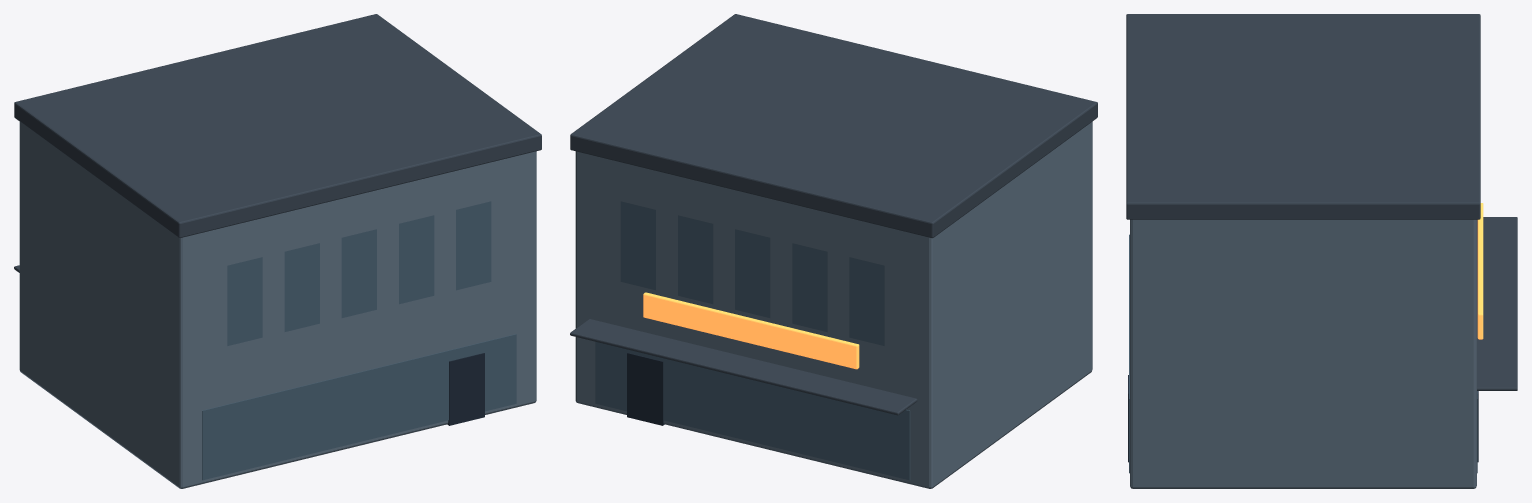
File: bld_shop_b.glb
3 views of the same model, side by side, from view 1: azimuth 30°, elevation 25°; view 2: azimuth 150°, elevation 25°; view 3: azimuth 270°, elevation 25° (orthographic). The views are drawn at different scales.
Visible parts, largest first — view 1: Shell, Parapet, Storefront, Windows_B, Door; view 2: Shell, Parapet, Storefront, Windows, Awning, Sign, Door; view 3: Shell, Parapet, Awning, Sign.
Part boxes in pixels (bbox=[...]): Shell: bbox=[19, 122, 536, 488]; Parapet: bbox=[14, 14, 541, 237]; Storefront: bbox=[202, 334, 516, 480]; Windows_B: bbox=[227, 201, 491, 345]; Door: bbox=[447, 353, 484, 425]; Shell: bbox=[575, 121, 1092, 488]; Parapet: bbox=[570, 14, 1097, 238]; Storefront: bbox=[595, 341, 910, 480]; Windows: bbox=[620, 201, 884, 345]; Awning: bbox=[570, 319, 917, 415]; Sign: bbox=[643, 292, 859, 369]; Door: bbox=[627, 353, 664, 425]; Shell: bbox=[1130, 219, 1476, 488]; Parapet: bbox=[1126, 14, 1480, 219]; Awning: bbox=[1477, 217, 1517, 390]; Sign: bbox=[1477, 203, 1483, 339].
Bounding box in the file's own units: 14.24 × 10.1 × 12.42.
